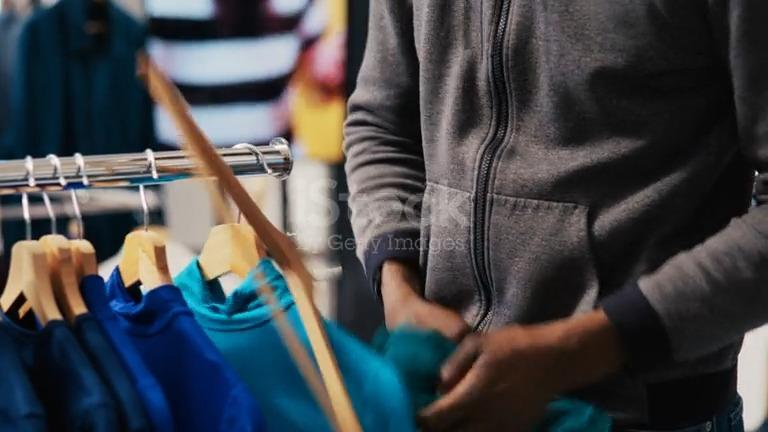Shoplifting: (261, 0, 768, 432)
